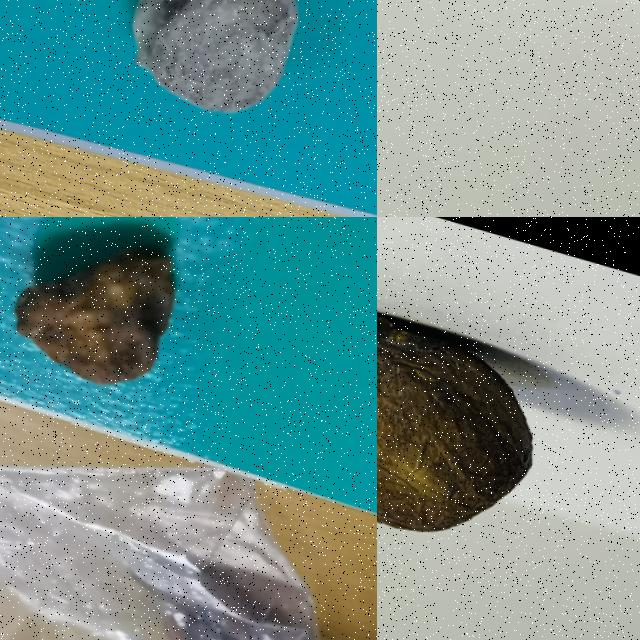Agglomerated_cocoabeans: (36, 0, 366, 149)
Fine_cocoabeans: (377, 239, 639, 598), (377, 0, 639, 67)
Flat_cocoabeans: (0, 217, 230, 457)
